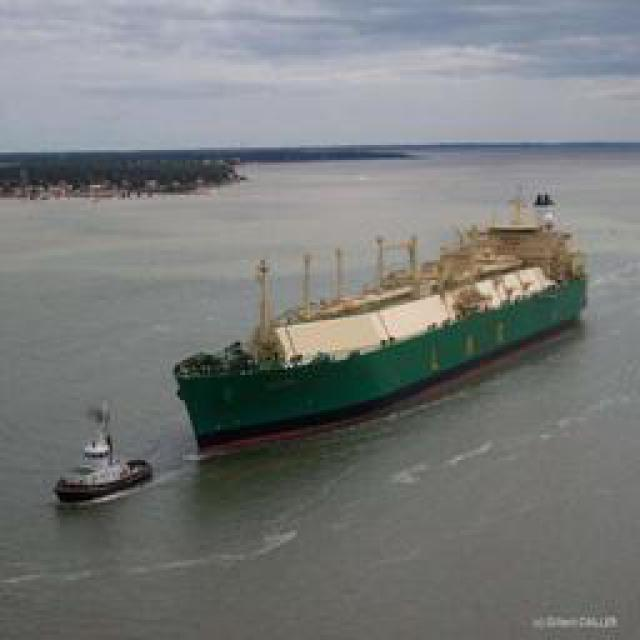Ship: (173, 219, 591, 469)
